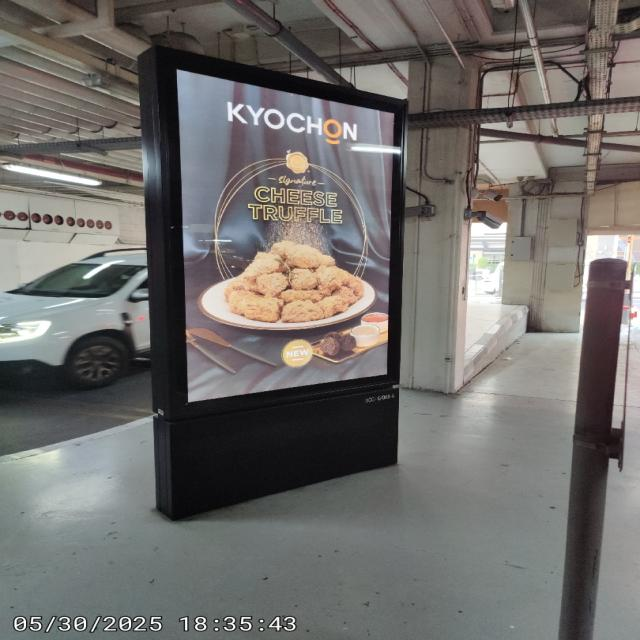mupi: (150, 45, 404, 525)
